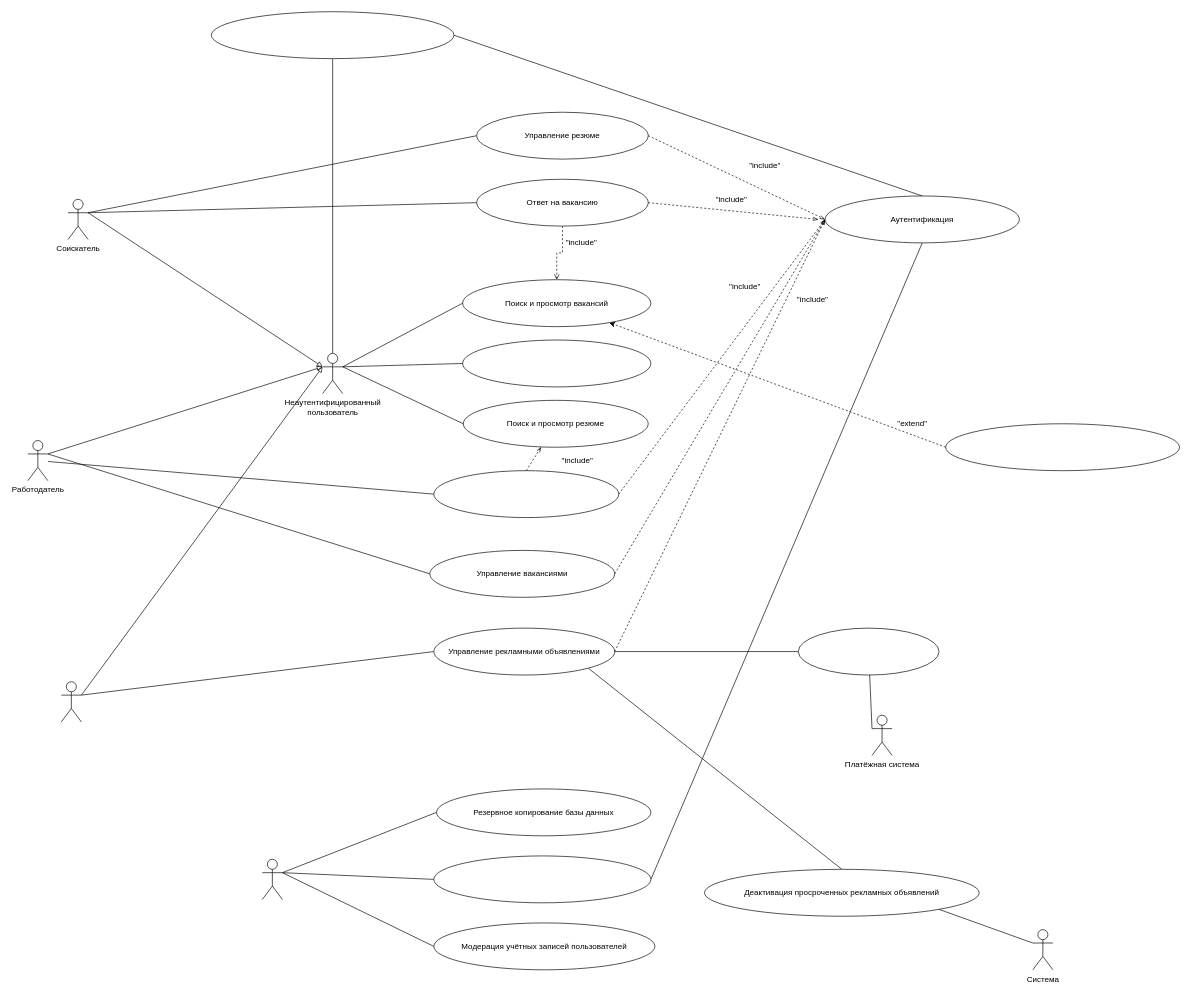
The diagram is 1191 pixels wide and 996 high, and some of its shapes have lost their labels. The shapes that lost their labels are listed below. From the top down, each one's centre as x and y in pixels, then its label:
[332,35]: Регистрация на сайте
[556,363]: Просмотр рекламы
[1062,447]: Сохранение вакансии в формате pdf
[526,494]: Ответ на резюме
[868,651]: Регистрация оплаты
[71,701]: Рекламодатель
[272,879]: Системный администратор
[542,879]: Модерация вакансий, резюме и рекламных объявлений
